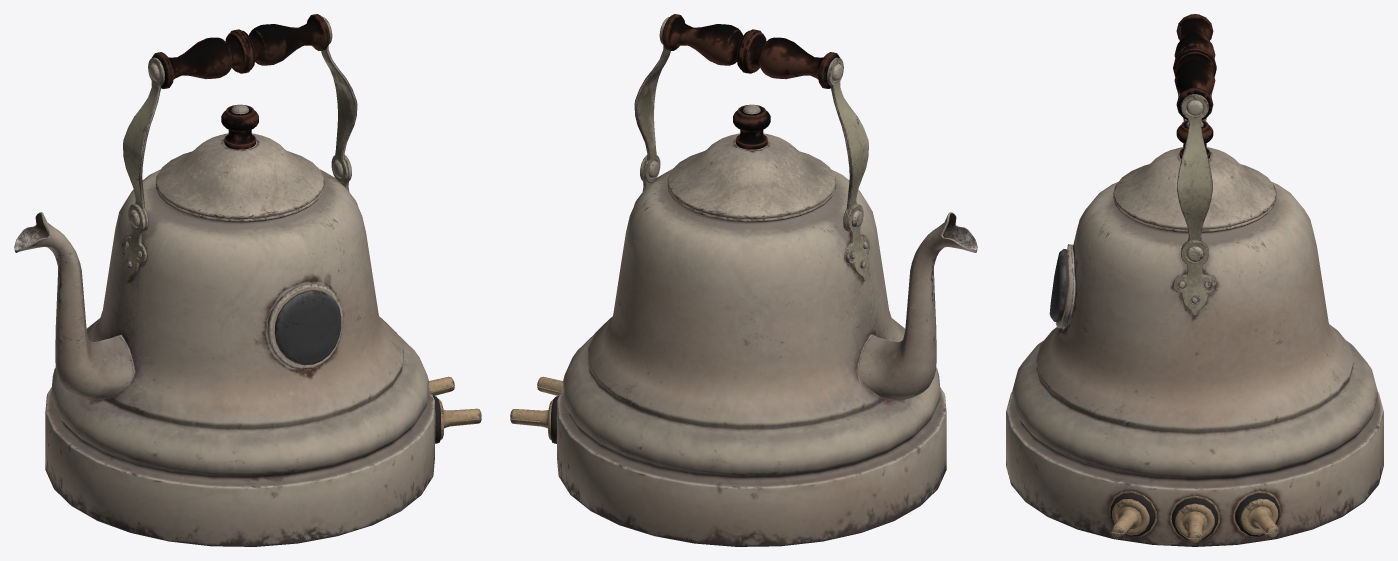
The model's file is vintage-kettle.glb.
3 views of the same model, side by side, from view 1: azimuth 30°, elevation 25°; view 2: azimuth 150°, elevation 25°; view 3: azimuth 270°, elevation 25° (orthographic). The views are drawn at different scales.
Visible parts, largest first — view 1: vintage_electric_kettle; view 2: vintage_electric_kettle; view 3: vintage_electric_kettle.
Part boxes in pixels (box(x1,y1,x2,y2)): vintage_electric_kettle: box(14, 14, 481, 546); vintage_electric_kettle: box(510, 14, 977, 546); vintage_electric_kettle: box(1006, 14, 1383, 546).
Size of the model in its own units: 0.3209 by 0.3047 by 0.2486.
2 materials, 2 textured.
